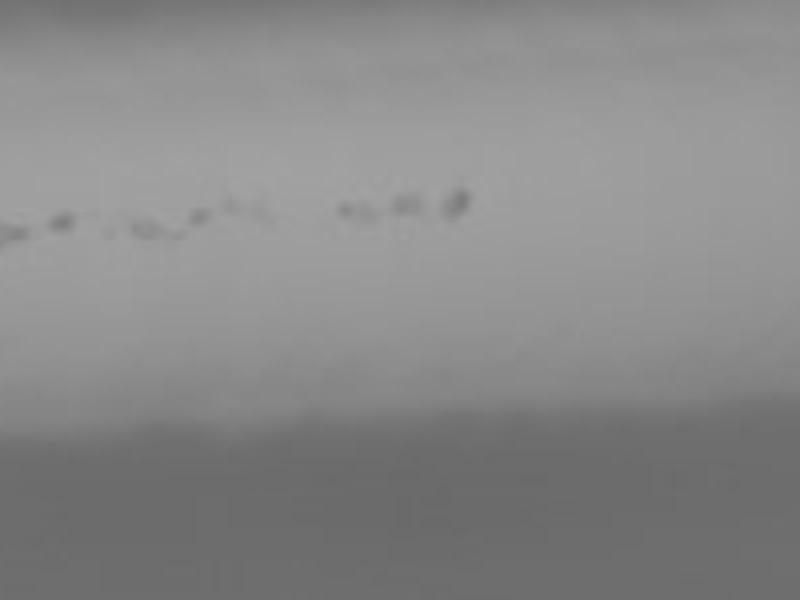defect: (439, 189, 471, 224), (339, 200, 375, 227), (390, 194, 424, 218), (133, 217, 167, 235), (50, 211, 77, 233), (1, 226, 27, 247), (223, 194, 244, 217), (188, 207, 211, 227), (167, 227, 190, 246), (253, 200, 275, 216)
